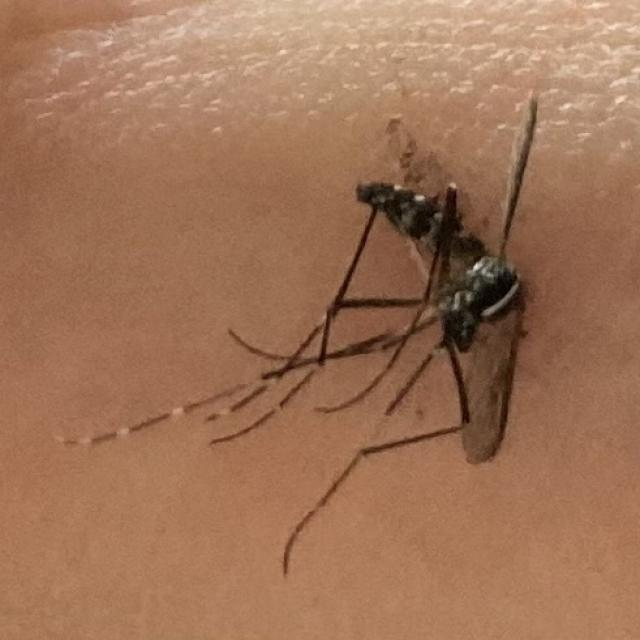albopictus: (189, 93, 576, 561)
